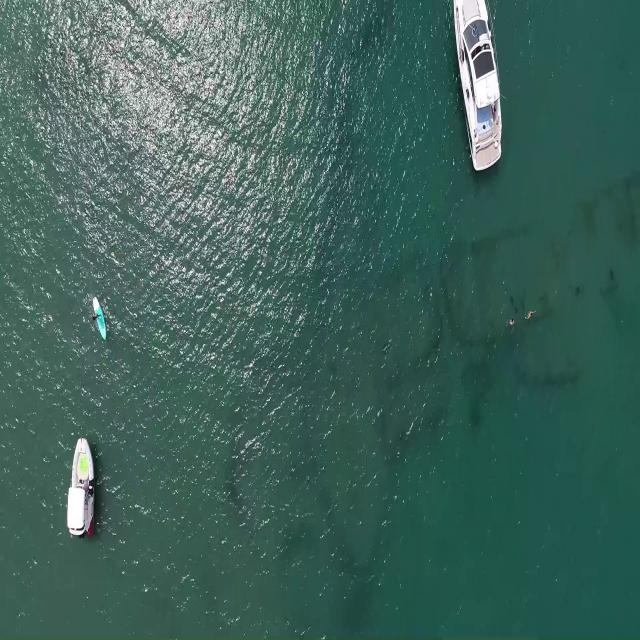boat: (451, 0, 505, 171), (65, 432, 97, 545)
person: (525, 308, 539, 322), (90, 308, 102, 324), (508, 318, 516, 328)
surfboard: (92, 295, 107, 345)
